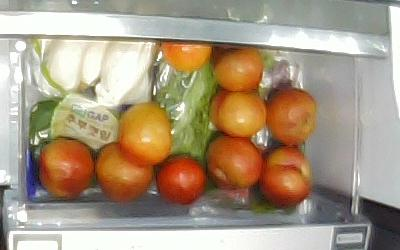prune: (95, 140, 154, 201), (37, 139, 93, 198), (205, 134, 263, 189), (119, 103, 171, 162), (265, 89, 317, 148), (259, 147, 311, 205), (209, 90, 267, 138), (209, 45, 264, 93), (157, 153, 206, 205), (161, 41, 208, 73)
